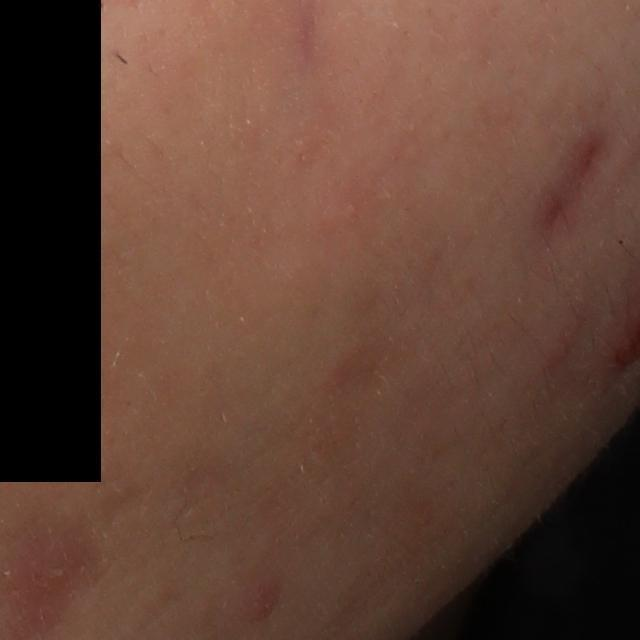atrophic_scar: (525, 123, 621, 244)
papule: (244, 583, 279, 627)
